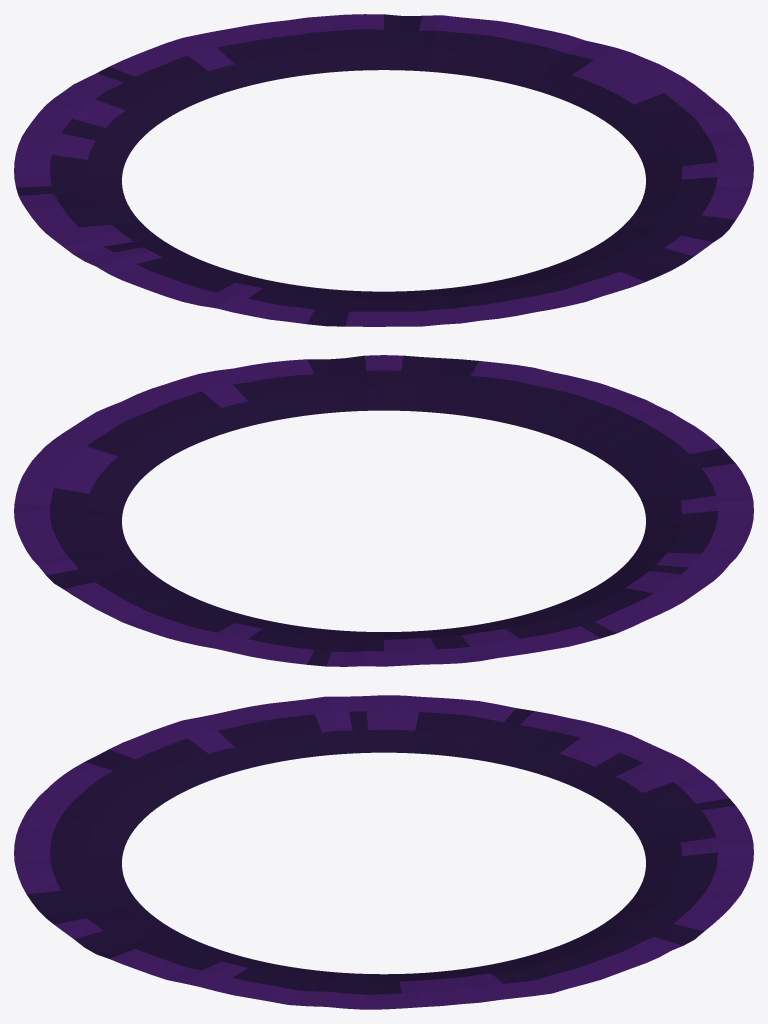
Rendered from W6_Ground_HorizonRing.fbx.
The picture shows the model from 3 angles, top to bottom: view 1: azimuth 30°, elevation 25°; view 2: azimuth 150°, elevation 25°; view 3: azimuth 270°, elevation 25°; orthographic projection.
Parts seen in each view (by area): view 1: W6_Ground_HorizonRing; view 2: W6_Ground_HorizonRing; view 3: W6_Ground_HorizonRing.
Boxes of the visible parts, bbox=[...] form: W6_Ground_HorizonRing: bbox=[14, 14, 753, 326]; W6_Ground_HorizonRing: bbox=[14, 355, 753, 666]; W6_Ground_HorizonRing: bbox=[14, 695, 753, 1009].
Size of the model in its own units: 4800 by 89.48 by 4800.
